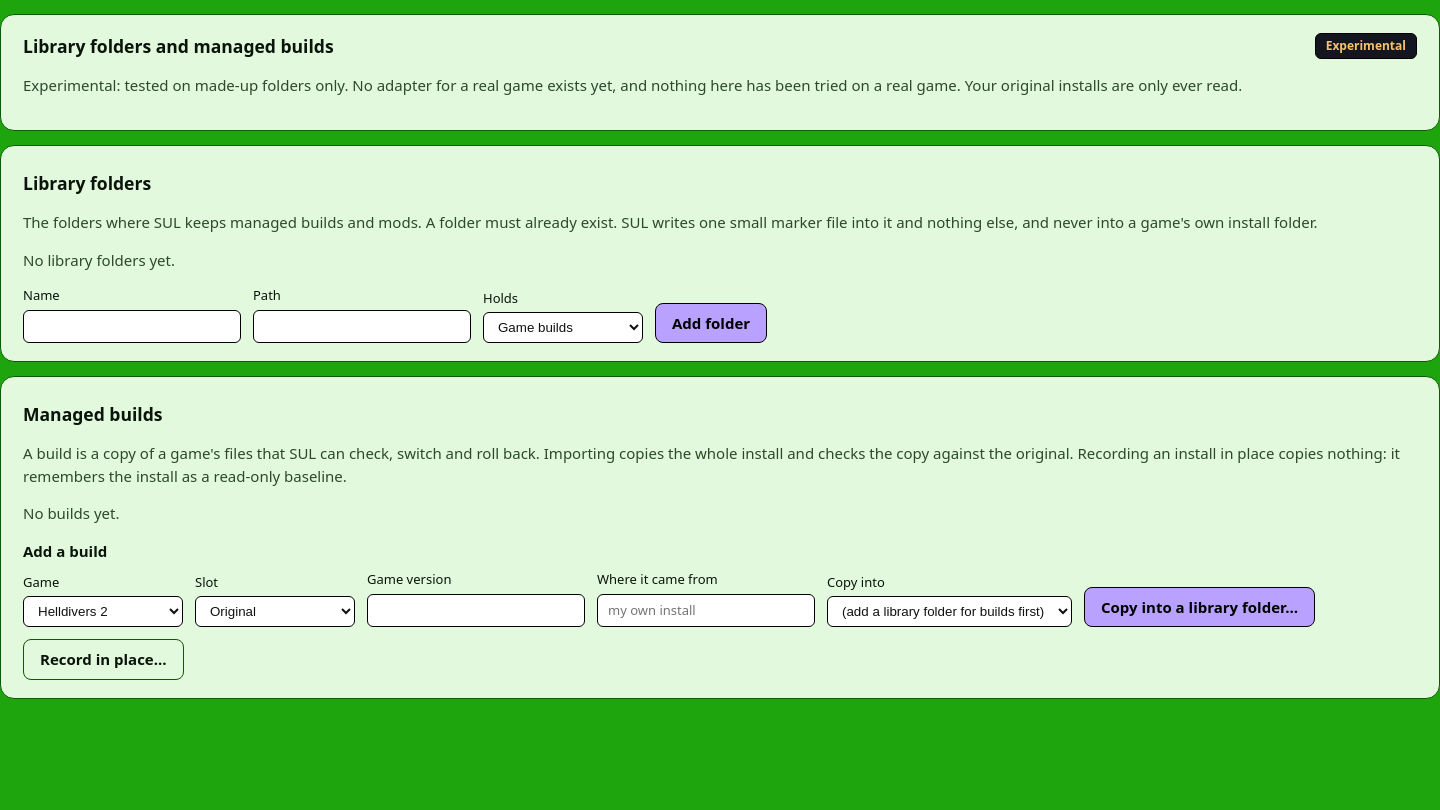
Test: the folders-and-builds panel, clicked through › a build needs a version, a folder and a game; the form says what is missing and asks nothing
Later steps or results of the test are not shown.
Click the button "Copy into a library folder…". click: {"x": 1200, "y": 607}
box: [1084, 587, 1315, 627]
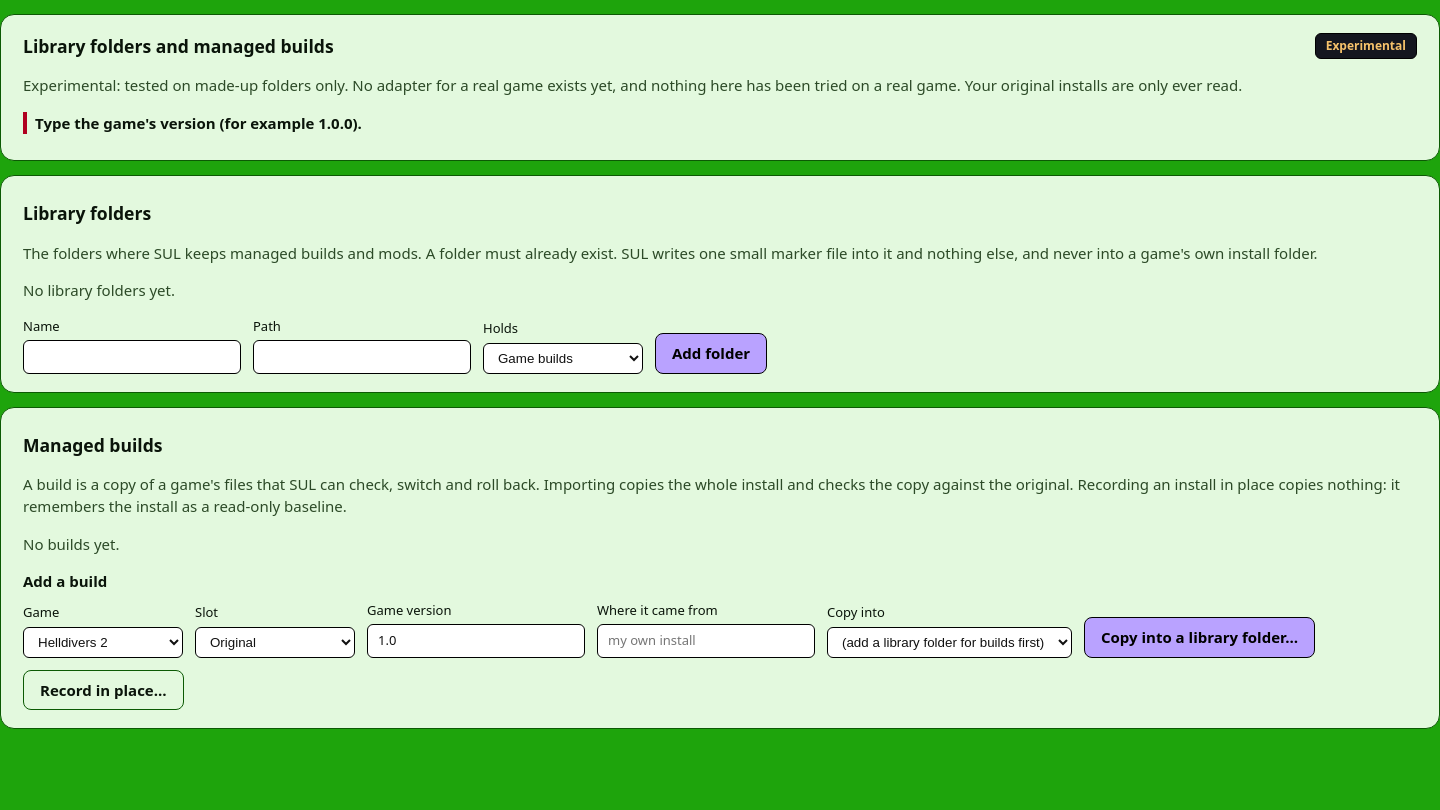
Expected: the message "Type the game's version (for example 1.0.0)." is shown, [23, 112, 1417, 134]
